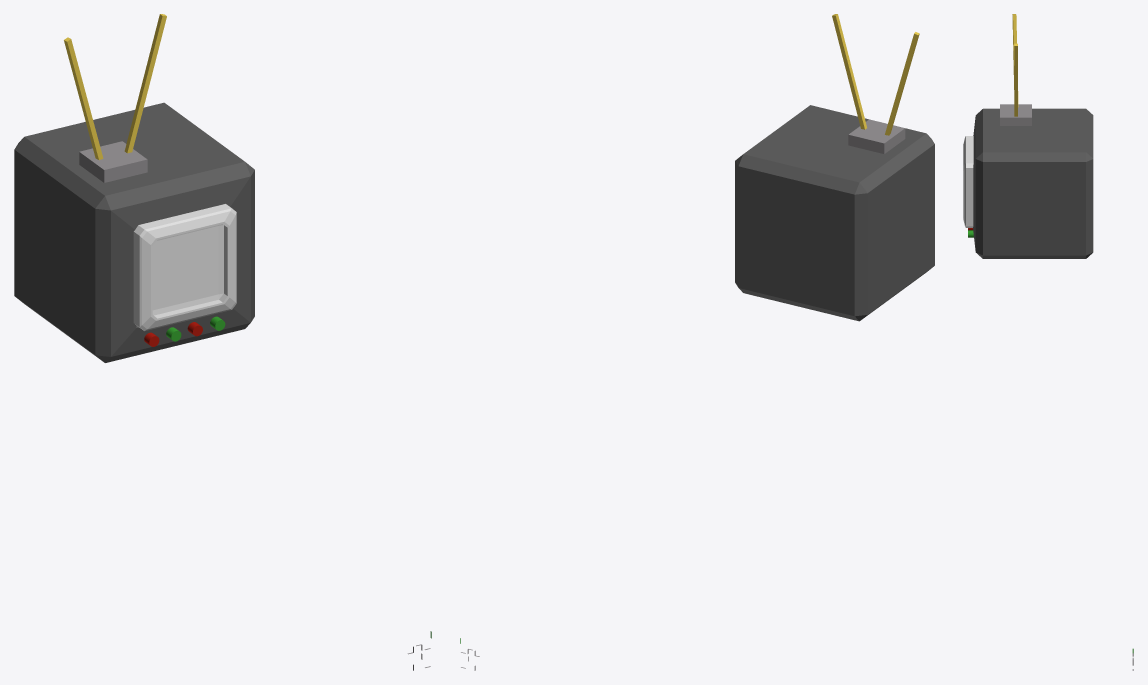
File: aparato1color.fbx
3 views of the same model, side by side, from view 1: azimuth 30°, elevation 25°; view 2: azimuth 150°, elevation 25°; view 3: azimuth 270°, elevation 25° (orthographic). The views are drawn at different scales.
Visible parts, largest first — view 1: Cube.006, Cube.007, Cube.010, Cube.008, Cube.009; view 2: Cube.006, Cube.010, Cube.008; view 3: Cube.006, Cube.007, Cube.010, Cube.008.
Part boxes in pixels (<box>): Cube.006: <box>14,102,254,362</box>; Cube.007: <box>133,204,236,331</box>; Cube.010: <box>79,141,147,182</box>; Cube.008: <box>124,14,166,153</box>; Cube.009: <box>64,37,103,160</box>; Cube.006: <box>735,105,934,321</box>; Cube.010: <box>848,119,905,154</box>; Cube.008: <box>832,14,866,129</box>; Cube.006: <box>973,108,1093,258</box>; Cube.007: <box>963,136,973,227</box>; Cube.010: <box>1000,104,1031,125</box>; Cube.008: <box>1014,43,1017,116</box>.
Bounding box in the file's own units: 240 × 403 × 121.
